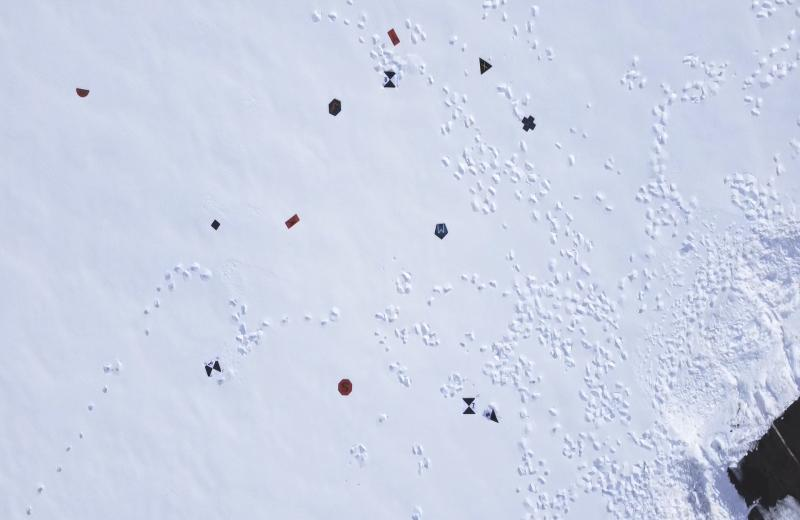Cross: (521, 114, 537, 132)
Hexagon: (328, 98, 342, 117)
Octagon: (338, 378, 354, 398)
Pentagon: (434, 222, 449, 240)
Rectangle: (284, 212, 300, 230), (386, 27, 400, 46)
Semi Circle: (74, 88, 90, 98)
Square: (210, 218, 221, 231)
Triangle: (479, 56, 493, 75)
